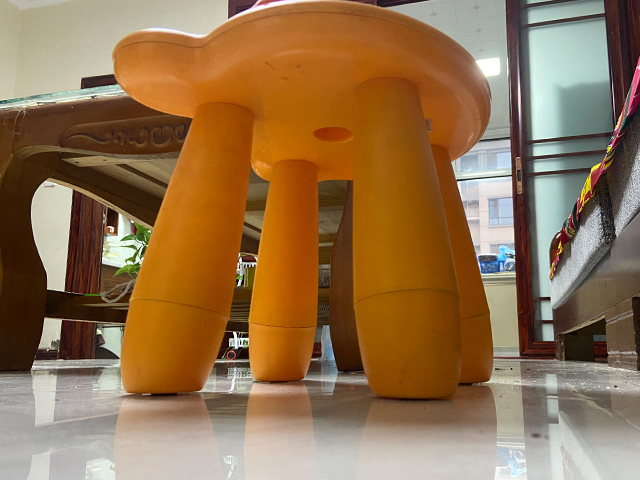sofa: (549, 53, 640, 372)
stool: (109, 1, 497, 402)
table: (1, 85, 364, 373)
